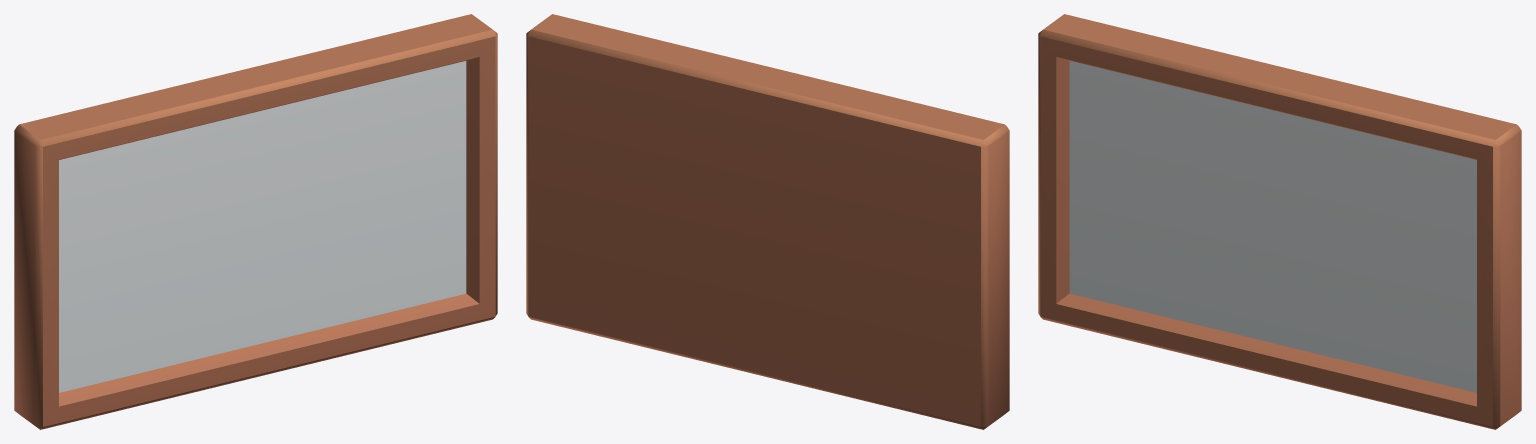
Rendered from pictureframe_large_B.obj.
3 views of the same model, side by side, from view 1: azimuth 30°, elevation 25°; view 2: azimuth 150°, elevation 25°; view 3: azimuth 330°, elevation 25° (orthographic).
Visible parts, largest first — view 1: pictureframe_large_B_Cube.018; view 2: pictureframe_large_B_Cube.018; view 3: pictureframe_large_B_Cube.018.
Part boxes in pixels (<box>): pictureframe_large_B_Cube.018: <box>14,14,497,429</box>; pictureframe_large_B_Cube.018: <box>526,14,1009,429</box>; pictureframe_large_B_Cube.018: <box>1038,14,1521,429</box>.
Size of the model in its own units: 2 by 1.2 by 0.2.
Materials: 1 (1 with a texture image).
